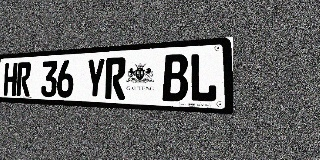3: (41, 61, 58, 97)
6: (56, 60, 74, 98)
B: (162, 54, 188, 102)
H: (3, 63, 17, 96)
L: (189, 52, 217, 103)
R: (105, 57, 126, 100), (16, 62, 31, 96)
Y: (85, 58, 105, 99)
